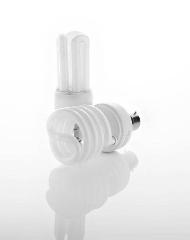lightbulb: (45, 30, 141, 240), (46, 149, 138, 239), (46, 102, 140, 164), (54, 31, 94, 110)
